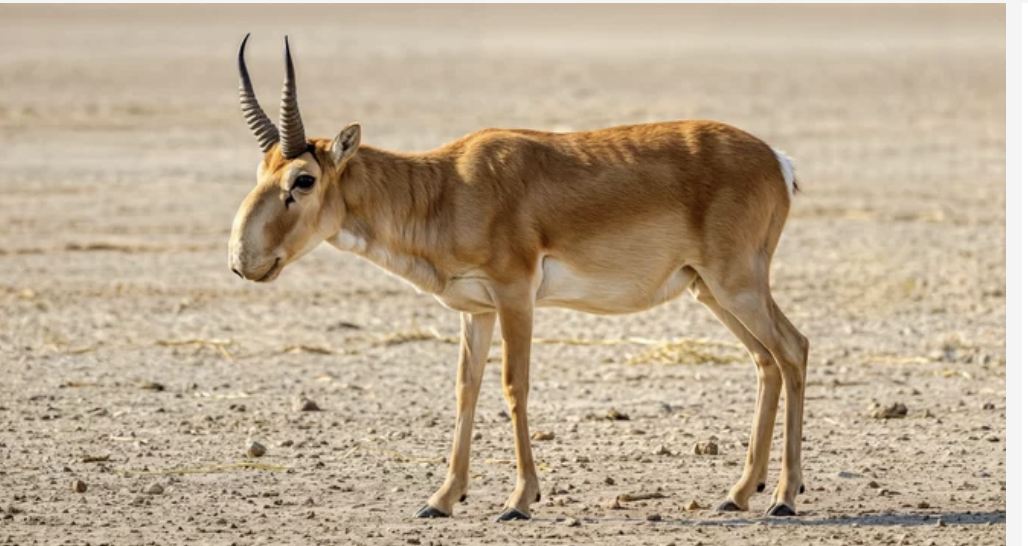saiga: (214, 23, 815, 521)
